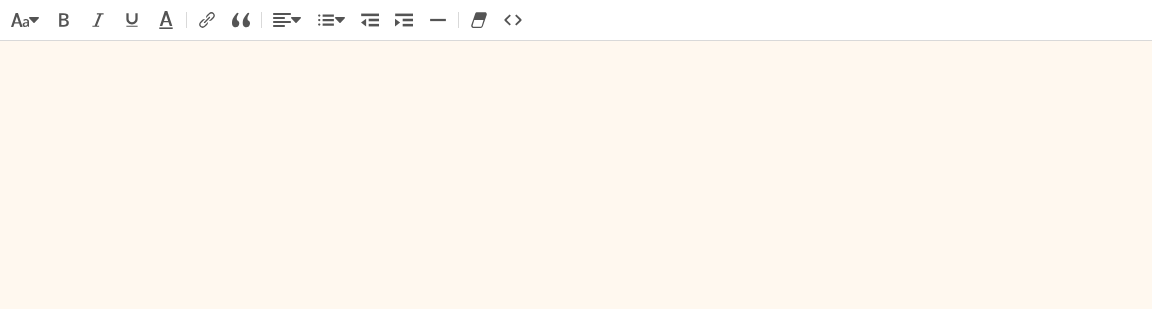
it: rendering › font size dropdown shows 6 options when opened
Click the button titled "Font size".
click(25, 20)  # box [6,6,44,34]
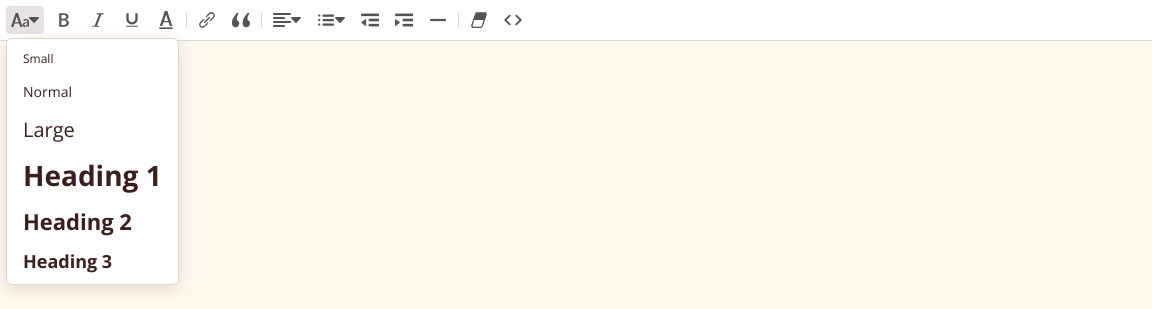
expect the number of buttons with class "editor-toolbar__dropdown-item" is 6: met, box [7,43,178,75]; [7,75,178,109]; [7,109,178,151]; [7,151,178,200]; [7,200,178,243]; [7,243,178,280]
expect the button with class "editor-toolbar__dropdown-item" reads "Small": met, box [7,43,178,75]
expect the button with class "editor-toolbar__dropdown-item" reads "Heading 1": met, box [7,151,178,200]
